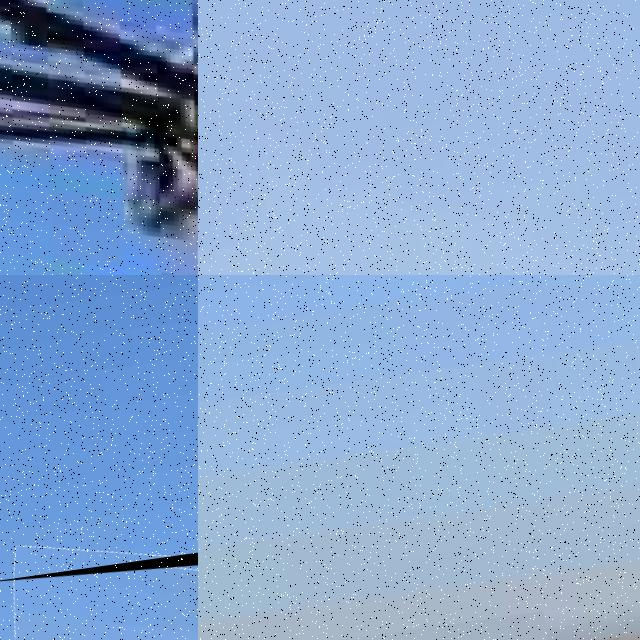drone: (0, 0, 198, 275), (0, 493, 198, 640)
